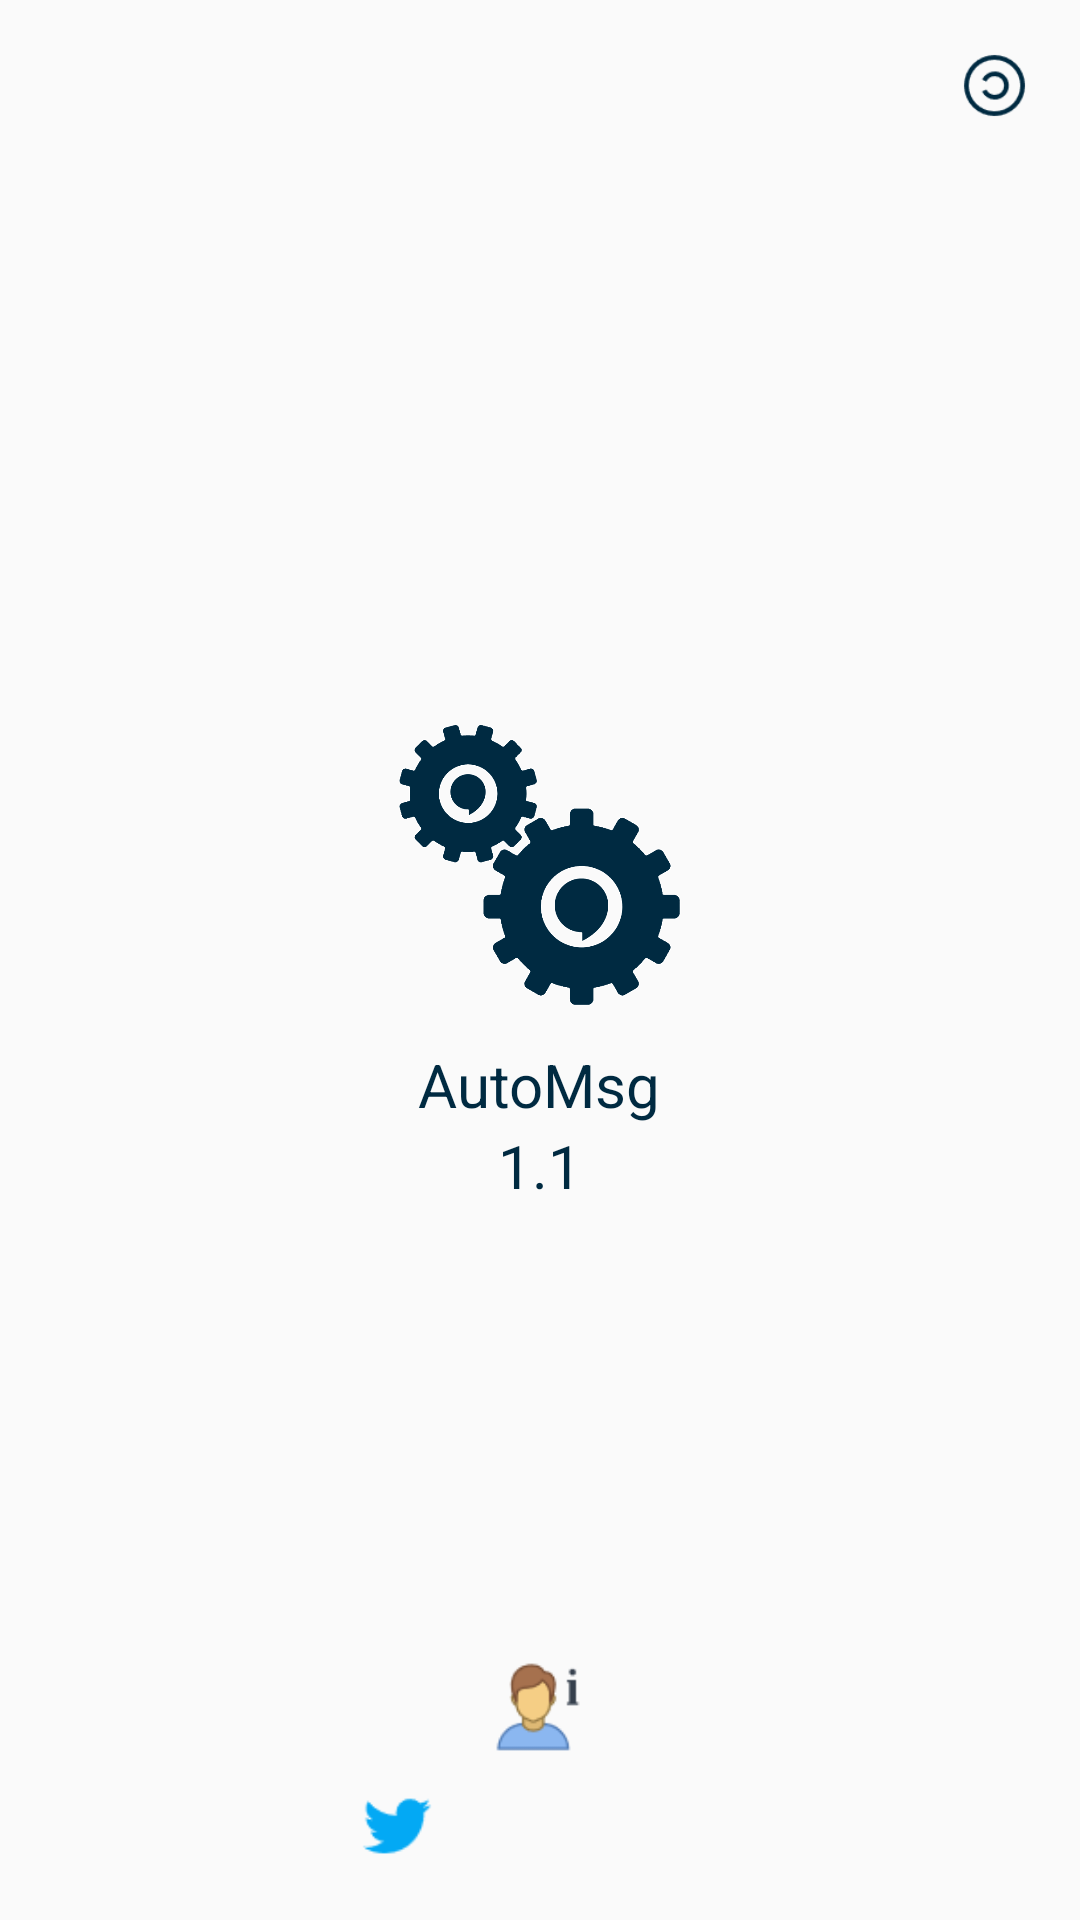

Icon bounding boxes for this 1080x1920 phone screenshot, format box(x1, y1, x2, y2):
Developer: box(496, 1663, 579, 1751)
